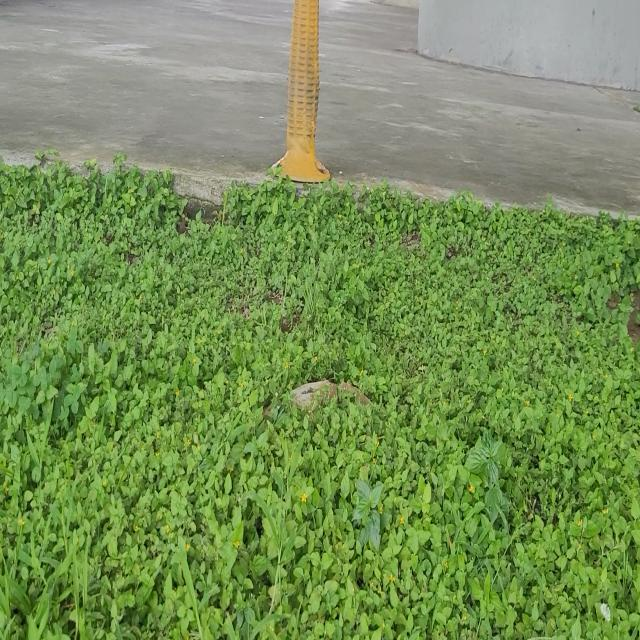grass: (0, 160, 640, 639)
